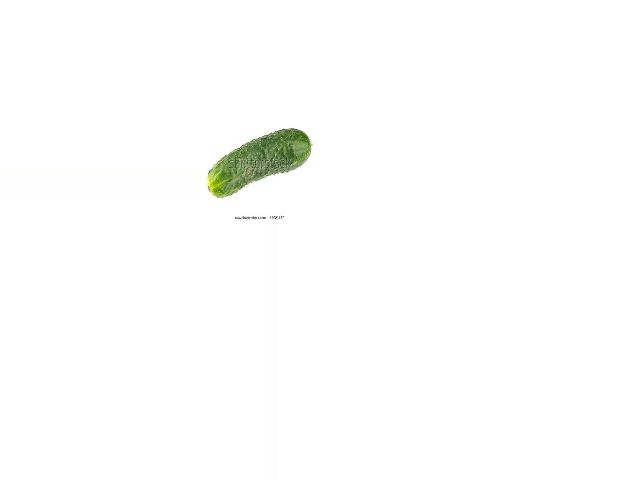cucumber: (207, 128, 312, 198)
